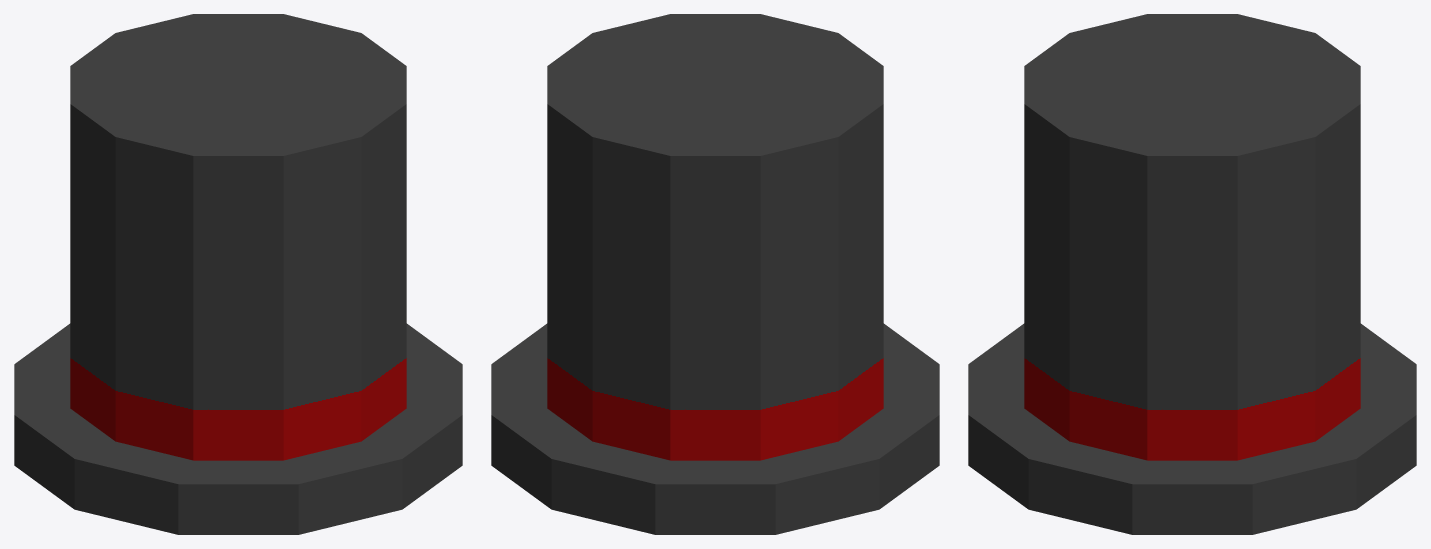
The model's file is magician.obj.
The picture shows the model from 3 angles, left to right: view 1: azimuth 30°, elevation 25°; view 2: azimuth 150°, elevation 25°; view 3: azimuth 270°, elevation 25°; orthographic projection.
Parts seen in each view (by area): view 1: cylinder; view 2: cylinder; view 3: cylinder.
Boxes of the visible parts, bbox=[...] form: cylinder: bbox=[14, 14, 462, 534]; cylinder: bbox=[491, 14, 939, 534]; cylinder: bbox=[968, 14, 1416, 534].
Bounding box in the file's own units: 1 × 0.875 × 1.
1 material, 1 textured.
